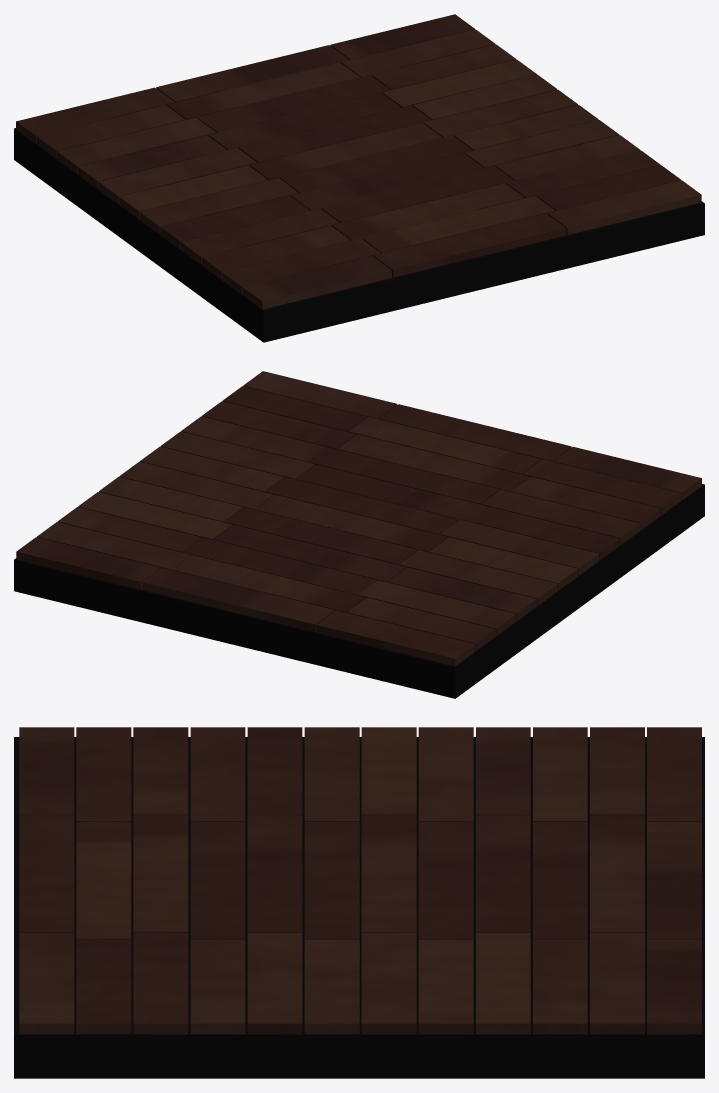
File: broken_FlaskSquare.fbx_floor3.fbx_Floors.fbx
3 views of the same model, one above another, from view 1: azimuth 30°, elevation 25°; view 2: azimuth 150°, elevation 25°; view 3: azimuth 270°, elevation 25° (orthographic). The views are drawn at different scales.
Parts seen in each view (by area): view 1: Cube.001; view 2: Cube.001; view 3: Cube.001.
Boxes of the visible parts, bbox=[...] form: Cube.001: bbox=[14, 14, 704, 342]; Cube.001: bbox=[14, 371, 704, 698]; Cube.001: bbox=[14, 727, 704, 1078].
Bounding box in the file's own units: 217 × 18.39 × 213.
